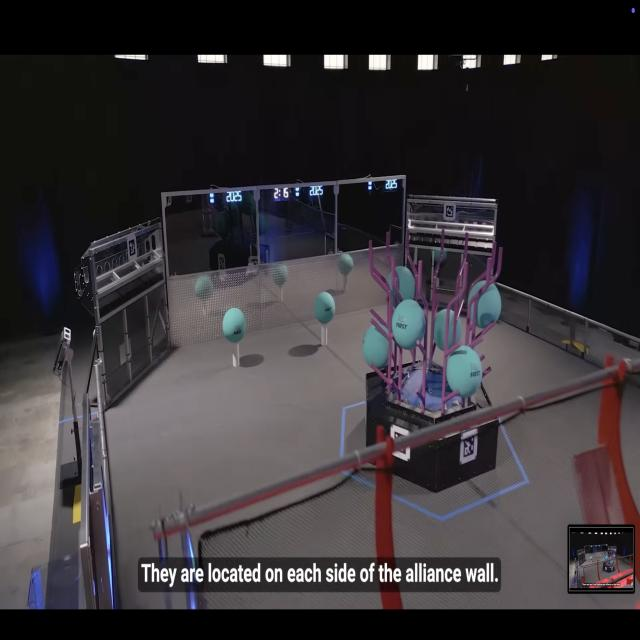algae: (466, 270, 503, 336), (446, 342, 484, 398), (390, 294, 428, 346), (362, 315, 393, 370), (432, 298, 462, 354), (389, 259, 419, 305), (220, 304, 250, 348), (311, 289, 338, 325)
coral: (318, 315, 332, 352), (232, 339, 242, 374)
